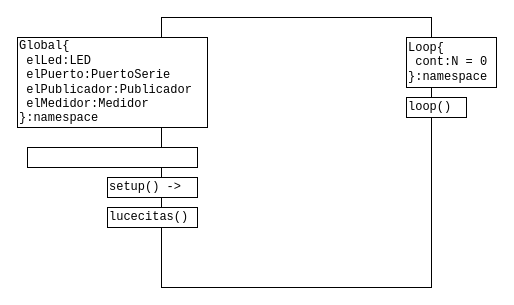
Some shapes in this 514 by 305 pixel diagram are drawn without their labels. The shapes that lost their labels are listed below. From the top down, each one's centre as x and y in pixels, then its label:
At (x=112, y=157): "inicializarPlaquita()".
At (x=296, y=152): "HolaMundoIBeacon".
